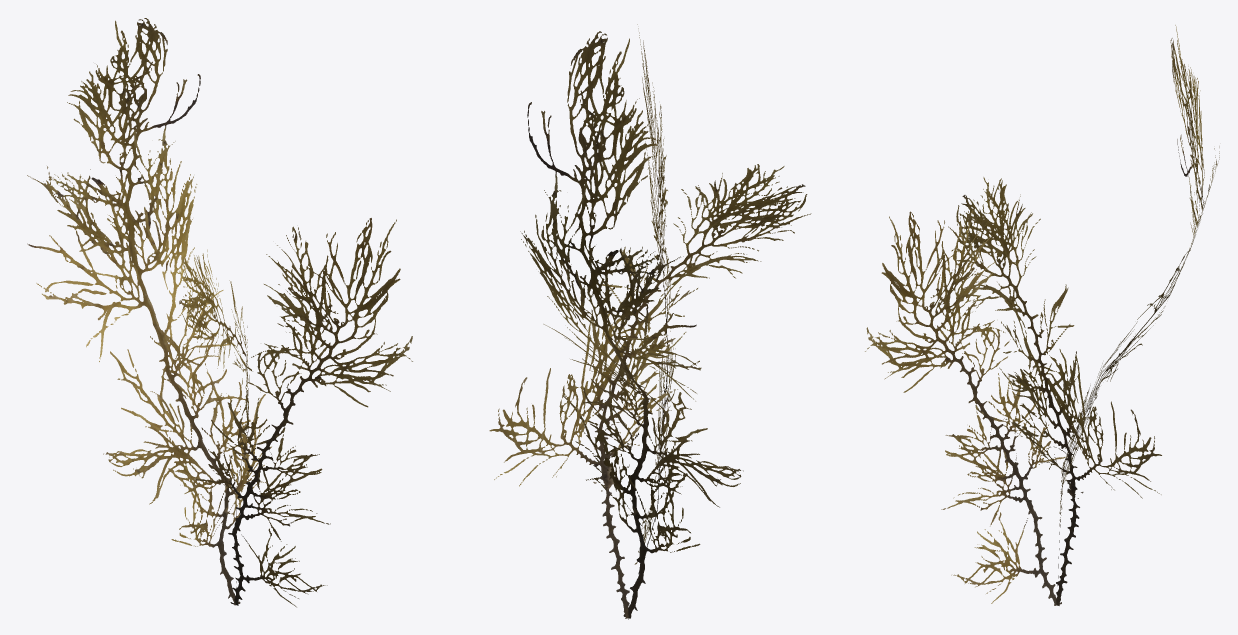
The model's file is seaweed_2_1.FBX.
3 renders of one model, left to right at view 1: azimuth 30°, elevation 25°; view 2: azimuth 150°, elevation 25°; view 3: azimuth 270°, elevation 25°, orthographic. The views are drawn at different scales.
Parts seen in each view (by area): view 1: seaweed_2_01; view 2: seaweed_2_01; view 3: seaweed_2_01.
Boxes of the visible parts, left/top/right/bottom form: seaweed_2_01: left=27, top=18, right=412, bottom=607; seaweed_2_01: left=489, top=24, right=811, bottom=619; seaweed_2_01: left=865, top=25, right=1219, bottom=605.
Bounding box in the file's own units: 15.91 × 38.49 × 22.7.
Materials: 1 (1 with a texture image).
